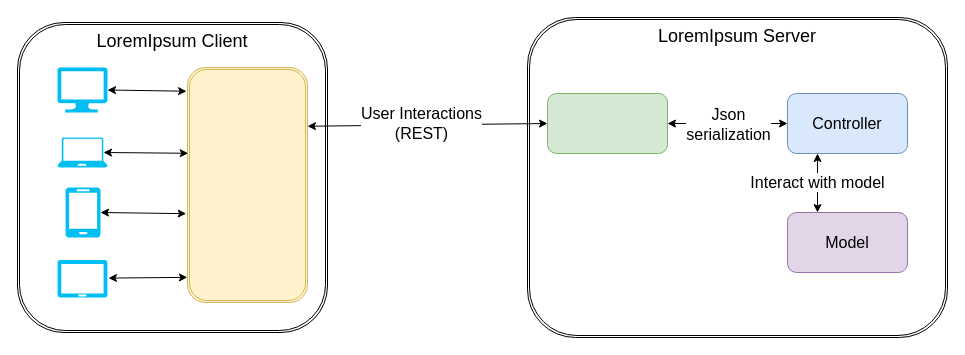
The diagram is 965 pixels wide and 355 high, and some of its shapes have lost their labels. The box of each missing label's shape, as (x1, y1, x2, y2) in pixels:
Frontend (Webbrowser): (186, 66, 308, 302)
Spring (Serializer): (546, 92, 668, 154)
